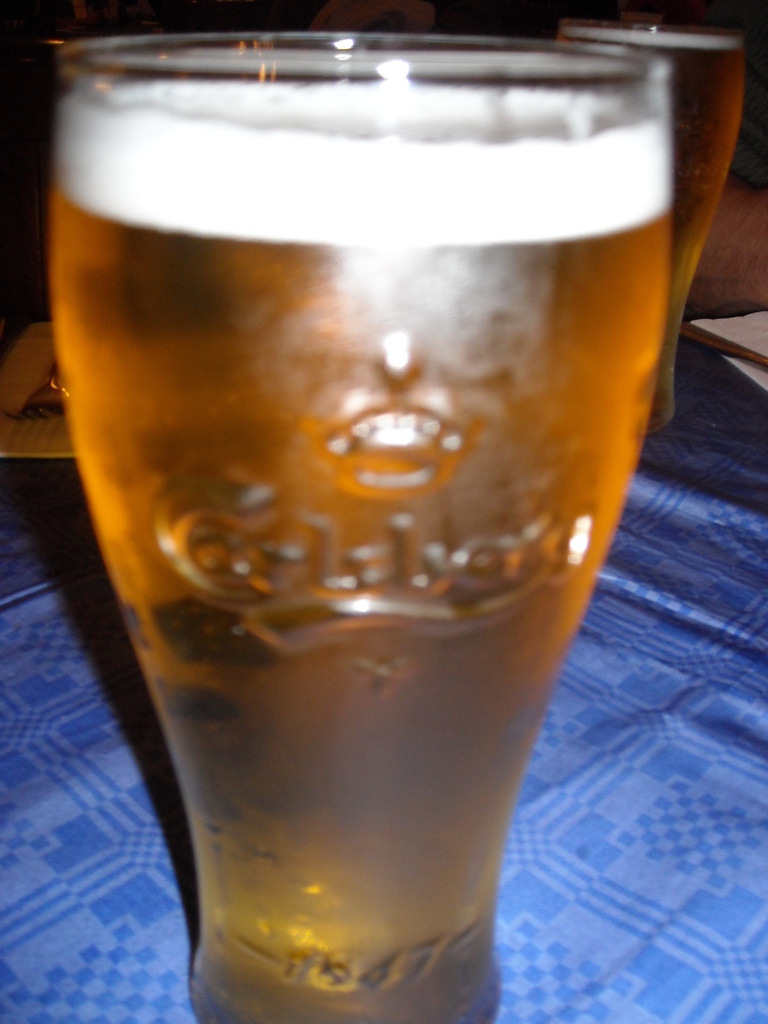Beer: (47, 76, 664, 1023), (563, 32, 741, 412)
